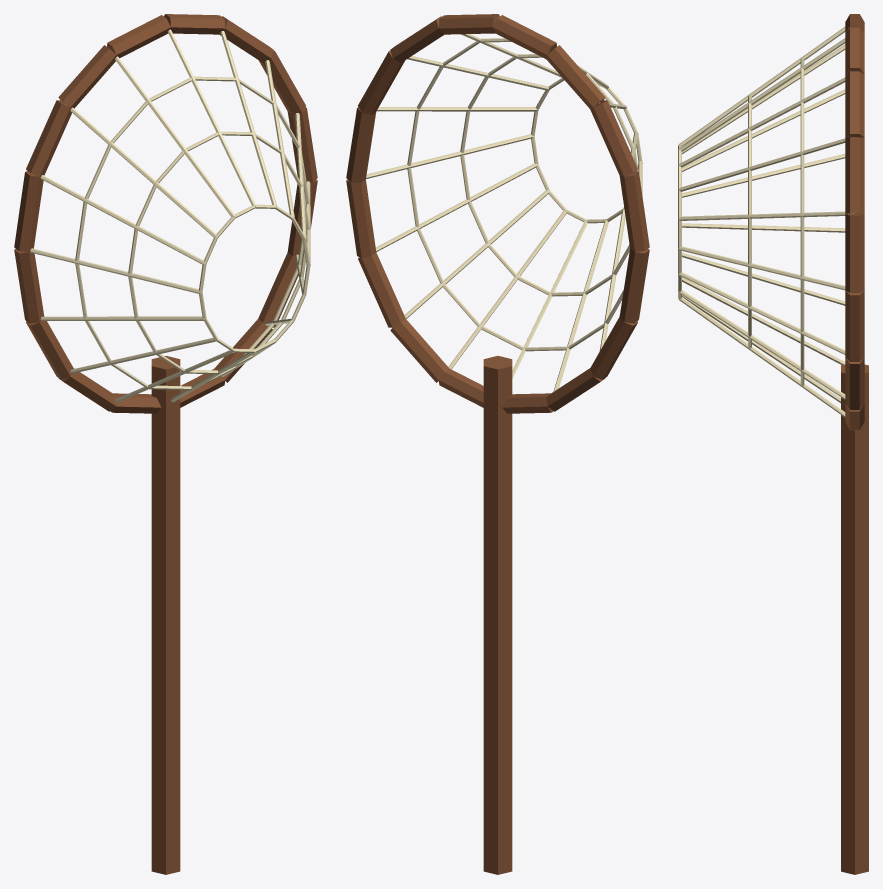
The model's file is landing_net.glb.
3 views of the same model, side by side, from view 1: azimuth 30°, elevation 25°; view 2: azimuth 150°, elevation 25°; view 3: azimuth 270°, elevation 25° (orthographic).
Visible parts, largest first — view 1: landing_net_Mesh; view 2: landing_net_Mesh; view 3: landing_net_Mesh.
Boxes of the visible parts, <box> form: landing_net_Mesh: <box>14,14,317,874</box>; landing_net_Mesh: <box>346,14,649,874</box>; landing_net_Mesh: <box>678,14,868,874</box>.
Size of the model in its own units: 0.5257 by 1.43 by 0.2947.
